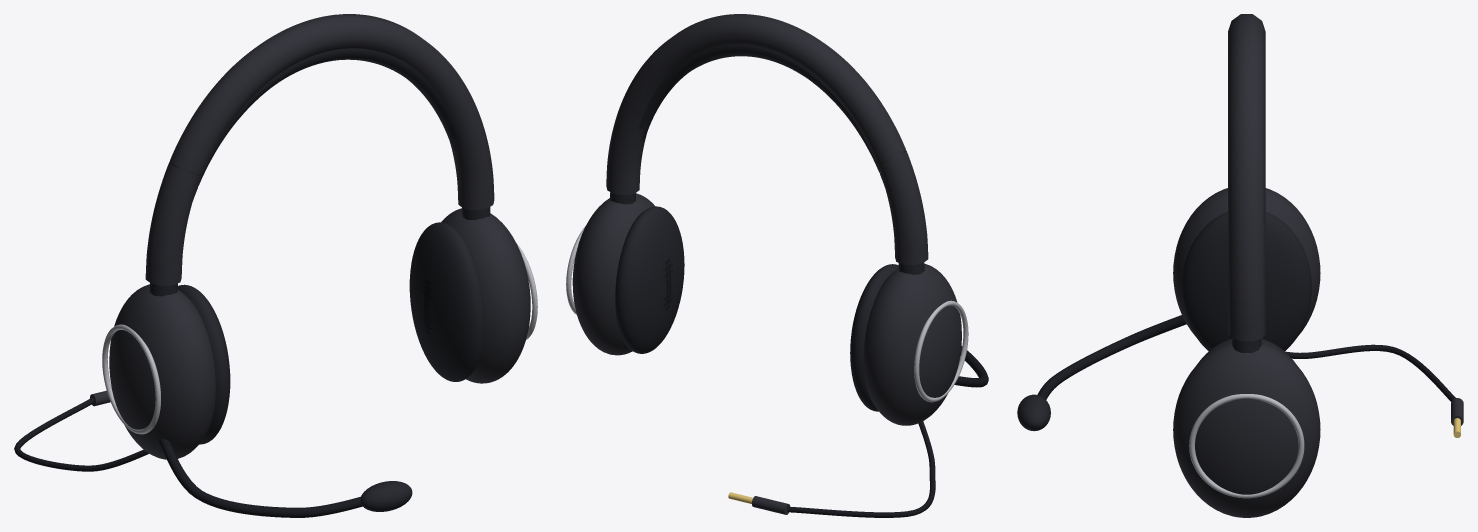
The model's file is headset.glb.
3 views of the same model, side by side, from view 1: azimuth 30°, elevation 25°; view 2: azimuth 150°, elevation 25°; view 3: azimuth 270°, elevation 25° (orthographic). The views are drawn at different scales.
Parts seen in each view (by area): view 1: Over ear cup shell (×2), Outer headband spine, Acoustic inner cushion (×2), Padded headband cushion, Adjustable microphone boom, Headset cord, Earcup accent ring, Microphone foam windscreen; view 2: Over ear cup shell (×2), Outer headband spine, Acoustic inner cushion (×2), Padded headband cushion, Headset cord, Earcup accent ring, Adjustable microphone boom; view 3: Over ear cup shell (×2), Outer headband spine, Acoustic inner cushion, Earcup accent ring, Adjustable microphone boom, Headset cord, Microphone foam windscreen.
Boxes of the visible parts, x1,y1,x2,y2 form: Over ear cup shell (×2): [109, 208, 530, 459]; Outer headband spine: [145, 14, 494, 285]; Acoustic inner cushion (×2): [177, 222, 484, 444]; Padded headband cushion: [149, 48, 490, 296]; Adjustable microphone boom: [159, 438, 362, 517]; Headset cord: [14, 397, 148, 471]; Earcup accent ring: [102, 324, 160, 434]; Microphone foam windscreen: [361, 481, 412, 511]; Over ear cup shell (×2): [572, 193, 961, 425]; Outer headband spine: [606, 14, 928, 265]; Acoustic inner cushion (×2): [615, 206, 898, 411]; Padded headband cushion: [610, 45, 924, 274]; Headset cord: [787, 421, 935, 517]; Earcup accent ring: [914, 300, 968, 402]; Adjustable microphone boom: [954, 346, 988, 387]; Over ear cup shell (×2): [1173, 188, 1320, 517]; Outer headband spine: [1228, 14, 1265, 341]; Acoustic inner cushion: [1181, 212, 1311, 351]; Earcup accent ring: [1189, 394, 1304, 498]; Adjustable microphone boom: [1037, 315, 1186, 399]; Headset cord: [1285, 344, 1455, 401]; Microphone foam windscreen: [1017, 394, 1050, 431].
Bounding box in the file's own units: 0.2444 × 0.2316 × 0.212.
Materials: 4 (4 with a texture image).
